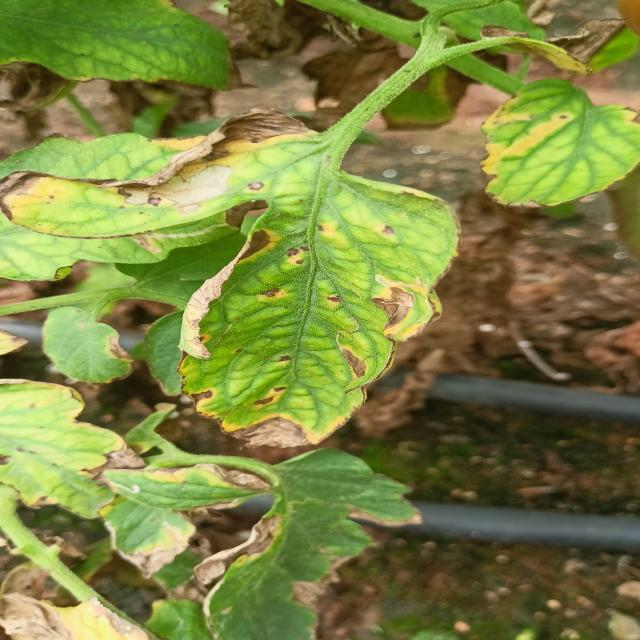Tomato mosaic virus leaf: (166, 198, 468, 454), (0, 105, 322, 243)
